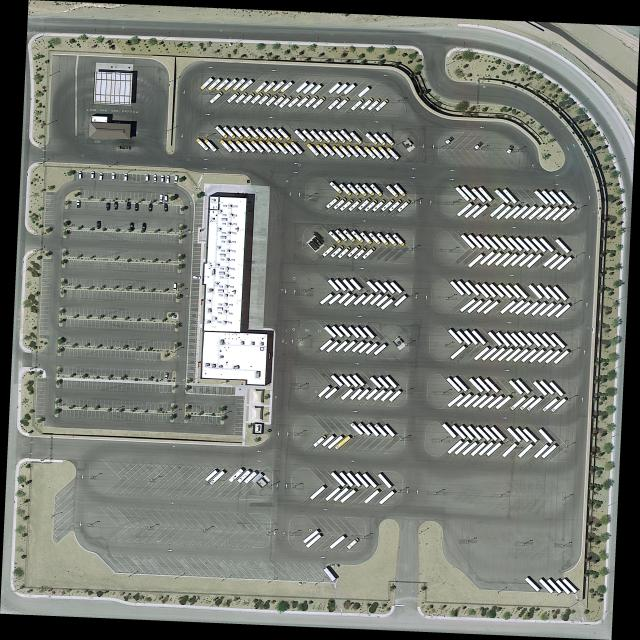large-vehicle: (525, 396, 543, 413), (445, 376, 462, 394), (524, 576, 541, 593), (475, 234, 492, 251), (447, 328, 464, 345), (354, 471, 370, 489), (450, 344, 468, 360), (455, 202, 473, 218), (346, 471, 362, 488), (362, 472, 378, 489), (377, 472, 393, 489), (324, 486, 341, 502), (459, 424, 475, 441), (515, 378, 531, 395), (525, 332, 542, 348), (534, 332, 550, 349), (541, 332, 558, 348), (453, 375, 469, 392), (475, 425, 491, 442), (489, 425, 506, 441), (506, 426, 522, 443), (561, 578, 578, 594), (517, 331, 533, 348), (510, 331, 526, 348), (527, 205, 544, 221), (533, 189, 550, 205), (467, 233, 483, 250), (495, 205, 512, 221), (209, 470, 226, 486), (227, 468, 244, 484), (471, 187, 487, 204), (478, 186, 494, 203), (494, 188, 511, 204), (538, 237, 555, 253), (538, 302, 555, 318), (456, 329, 472, 346), (463, 329, 479, 346), (487, 330, 503, 347), (504, 283, 521, 299), (456, 279, 472, 296), (464, 280, 480, 297), (481, 282, 497, 299), (309, 485, 327, 500), (509, 396, 527, 411), (301, 529, 319, 544), (496, 348, 514, 363), (536, 349, 554, 364), (471, 204, 489, 219), (463, 204, 481, 219), (475, 299, 493, 314), (522, 301, 540, 316), (330, 471, 346, 487), (338, 472, 354, 488), (508, 379, 524, 395), (532, 380, 548, 396), (539, 379, 555, 395), (548, 381, 564, 397), (441, 423, 457, 439), (483, 377, 499, 393), (475, 376, 491, 392), (550, 333, 566, 349), (468, 377, 484, 393), (482, 426, 498, 442), (514, 427, 530, 443), (538, 578, 554, 594), (546, 578, 562, 594), (555, 579, 571, 595), (531, 237, 547, 253), (549, 190, 565, 206), (460, 233, 476, 249), (484, 235, 500, 251), (499, 235, 515, 251), (507, 236, 523, 252), (515, 236, 531, 252), (454, 186, 470, 202), (461, 185, 477, 201), (523, 236, 539, 252), (531, 301, 547, 317), (471, 329, 487, 345), (513, 284, 529, 300), (449, 280, 465, 296), (474, 283, 490, 299), (489, 282, 505, 298), (497, 283, 513, 299), (334, 435, 351, 450), (340, 489, 357, 504), (378, 490, 395, 505), (447, 393, 464, 408), (550, 398, 567, 413), (473, 346, 490, 361), (489, 347, 506, 362), (505, 348, 522, 363), (553, 350, 570, 365), (485, 442, 502, 457), (446, 439, 463, 454), (454, 440, 471, 455), (461, 441, 478, 456), (512, 205, 529, 220), (520, 205, 537, 220), (543, 206, 560, 221), (504, 205, 521, 220), (489, 203, 506, 218), (305, 534, 322, 549), (329, 535, 346, 550), (545, 285, 560, 302), (459, 298, 476, 313), (482, 300, 499, 315), (515, 301, 532, 316), (536, 283, 551, 300), (528, 283, 543, 300), (542, 253, 559, 268), (494, 252, 511, 267), (502, 253, 519, 268), (518, 253, 535, 268), (548, 255, 565, 270), (556, 256, 573, 271), (477, 395, 495, 409), (478, 251, 496, 265), (327, 435, 343, 450), (456, 393, 472, 408), (520, 396, 536, 411), (451, 424, 466, 440), (467, 425, 482, 441), (521, 348, 537, 363), (545, 350, 561, 365), (522, 428, 538, 443), (537, 428, 553, 443), (470, 442, 486, 457), (502, 443, 518, 458), (518, 443, 534, 458), (533, 444, 549, 459), (504, 332, 519, 348), (558, 190, 573, 206), (492, 235, 507, 251), (555, 238, 570, 254), (553, 285, 568, 301), (467, 299, 483, 314), (500, 300, 516, 315), (555, 304, 571, 319), (467, 253, 483, 268), (510, 253, 526, 268), (363, 490, 380, 504), (332, 488, 349, 502), (463, 394, 480, 408), (495, 396, 512, 410), (542, 398, 559, 412), (512, 349, 529, 363), (477, 442, 494, 456), (542, 189, 556, 206), (551, 207, 568, 221), (559, 208, 576, 222), (496, 331, 510, 348), (508, 300, 525, 314), (546, 304, 563, 318), (526, 254, 543, 268), (237, 469, 252, 484), (199, 76, 214, 91), (472, 394, 488, 408), (481, 347, 497, 361), (529, 349, 545, 363), (541, 444, 557, 458), (536, 206, 552, 220), (323, 566, 337, 582), (503, 188, 517, 204), (486, 252, 502, 266), (487, 396, 504, 409), (318, 338, 333, 352), (349, 422, 364, 436), (348, 198, 363, 212), (311, 96, 326, 110), (278, 95, 293, 109), (209, 91, 224, 105), (315, 144, 329, 159), (266, 140, 280, 155), (243, 470, 258, 484), (353, 246, 367, 260), (381, 198, 395, 212), (384, 233, 398, 247), (366, 423, 380, 437), (373, 423, 387, 437), (325, 340, 339, 354), (238, 126, 252, 140), (262, 127, 276, 141), (195, 137, 209, 151), (306, 143, 320, 157), (331, 145, 345, 159), (377, 146, 391, 160), (386, 147, 400, 161), (329, 181, 343, 195), (346, 183, 360, 197), (369, 183, 383, 197), (365, 132, 379, 146), (219, 139, 233, 153), (227, 139, 241, 153), (250, 140, 264, 154), (258, 140, 272, 154), (349, 131, 363, 145), (362, 247, 377, 260), (357, 197, 372, 210), (364, 199, 379, 212), (372, 199, 387, 212), (388, 199, 403, 212), (330, 245, 345, 258), (312, 435, 327, 448), (373, 343, 388, 356), (333, 197, 348, 210), (296, 95, 311, 108), (304, 95, 319, 108), (327, 98, 342, 111), (350, 98, 365, 111), (375, 99, 390, 112), (287, 95, 302, 108), (226, 91, 241, 104), (325, 196, 340, 209), (381, 133, 396, 146), (373, 132, 386, 147), (339, 129, 354, 142), (390, 281, 403, 295), (361, 293, 375, 306), (369, 293, 383, 306), (323, 325, 337, 338), (397, 200, 411, 213), (328, 230, 341, 244), (335, 229, 348, 243), (376, 232, 389, 246), (392, 233, 405, 247), (322, 244, 336, 257), (337, 246, 351, 259), (347, 245, 361, 258), (388, 390, 402, 403), (358, 422, 371, 436), (380, 389, 394, 402), (338, 374, 351, 388), (334, 340, 348, 353), (343, 340, 357, 353), (364, 342, 378, 355), (324, 387, 338, 400), (270, 128, 284, 141), (336, 97, 350, 110), (360, 98, 374, 111), (367, 98, 381, 111), (215, 125, 228, 139), (223, 126, 236, 140), (208, 78, 222, 91), (232, 78, 246, 91), (265, 94, 279, 107), (322, 143, 335, 157), (339, 145, 352, 159), (346, 145, 360, 158), (354, 145, 367, 159), (363, 146, 376, 160), (370, 146, 383, 160), (339, 183, 352, 197), (386, 185, 399, 199), (235, 140, 249, 153), (243, 139, 256, 153), (290, 141, 303, 155), (294, 129, 307, 143), (302, 129, 315, 143), (318, 130, 331, 144), (326, 130, 339, 144), (333, 130, 346, 144), (346, 537, 360, 550), (204, 469, 218, 482), (375, 295, 390, 307), (339, 388, 354, 400), (339, 199, 354, 211), (374, 281, 387, 294), (383, 282, 396, 295), (331, 325, 344, 338), (338, 325, 351, 338), (334, 279, 347, 292), (351, 230, 364, 243), (368, 232, 381, 245), (354, 326, 367, 339), (362, 326, 375, 339), (365, 388, 378, 401), (330, 374, 343, 387), (346, 375, 359, 388), (352, 374, 365, 387), (369, 376, 382, 389), (377, 376, 390, 389), (384, 376, 397, 389), (231, 127, 244, 140), (246, 127, 259, 140), (255, 128, 268, 141), (274, 94, 287, 107), (216, 79, 229, 92), (224, 79, 237, 92), (240, 79, 253, 92), (278, 128, 291, 141), (355, 184, 368, 197), (362, 184, 375, 197), (393, 184, 406, 197), (275, 142, 288, 155), (204, 139, 217, 152), (283, 142, 296, 155), (310, 130, 323, 143), (319, 293, 333, 305), (328, 293, 342, 305), (343, 295, 357, 307), (380, 298, 394, 310), (394, 295, 408, 307), (342, 230, 356, 242), (321, 435, 335, 447), (372, 389, 386, 401), (351, 341, 365, 353), (358, 342, 372, 354), (317, 386, 331, 398), (250, 93, 264, 105), (327, 279, 339, 292), (342, 279, 354, 292), (366, 281, 379, 293), (338, 292, 351, 304), (353, 294, 366, 306), (360, 232, 372, 245), (348, 326, 360, 339), (383, 425, 396, 437), (357, 388, 369, 401), (350, 388, 363, 400), (335, 83, 348, 95), (343, 84, 356, 96), (280, 81, 293, 93), (263, 81, 276, 93), (295, 82, 308, 94), (235, 92, 248, 104), (242, 92, 255, 104), (258, 94, 271, 106), (357, 87, 370, 98), (272, 81, 285, 92), (350, 279, 361, 291), (328, 83, 340, 94), (255, 82, 267, 93), (303, 83, 315, 94), (310, 84, 322, 95), (251, 473, 263, 484), (159, 194, 163, 202)
small-vehicle: (126, 202, 132, 210), (163, 204, 169, 212), (106, 202, 111, 211), (148, 203, 153, 212), (123, 174, 128, 182), (145, 174, 150, 182), (165, 176, 170, 184), (173, 176, 178, 184), (76, 200, 81, 208), (134, 203, 139, 211), (96, 221, 101, 229), (164, 372, 169, 380), (78, 171, 83, 179), (192, 276, 201, 280), (153, 174, 157, 182), (114, 202, 118, 210), (173, 283, 177, 291), (91, 171, 95, 179), (160, 175, 164, 182), (164, 196, 168, 203), (99, 173, 103, 180), (143, 224, 146, 232), (131, 222, 134, 229), (112, 173, 115, 180)
